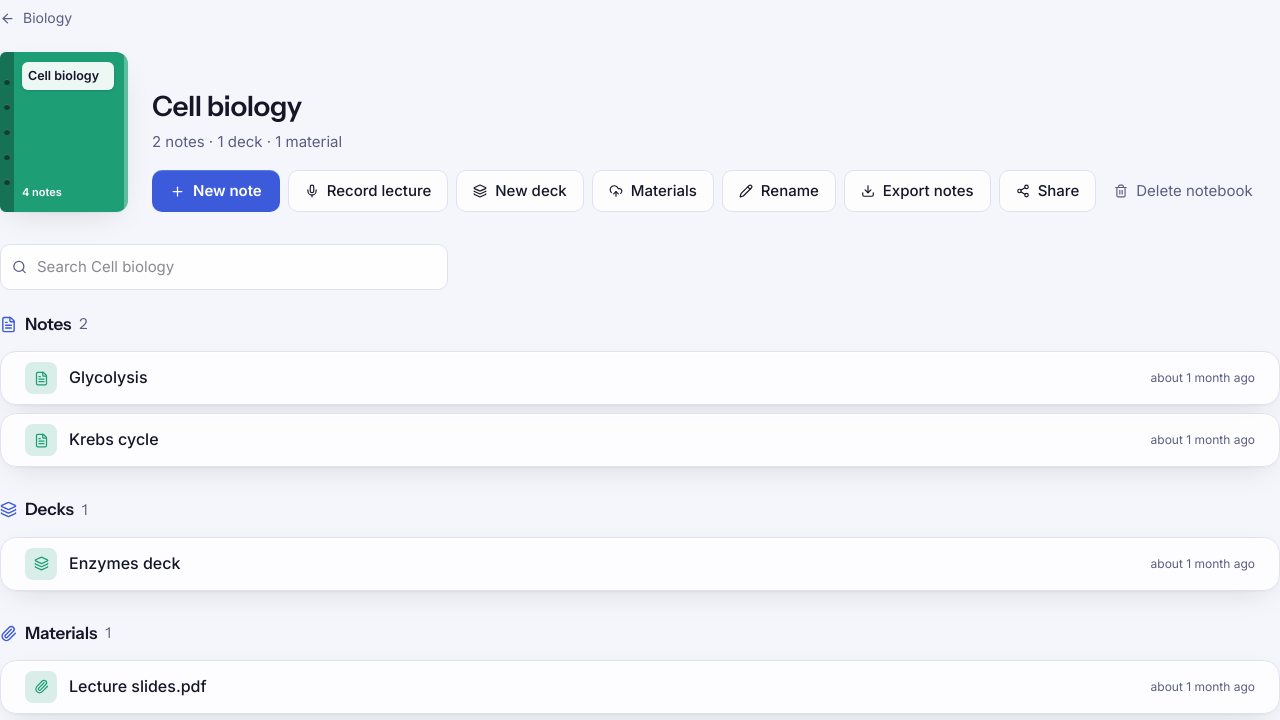
Scenario: a notebook's page › renames it and changes its course, which changes its colour
Click the button "Rename" at (779, 191), box [722,170,836,212]
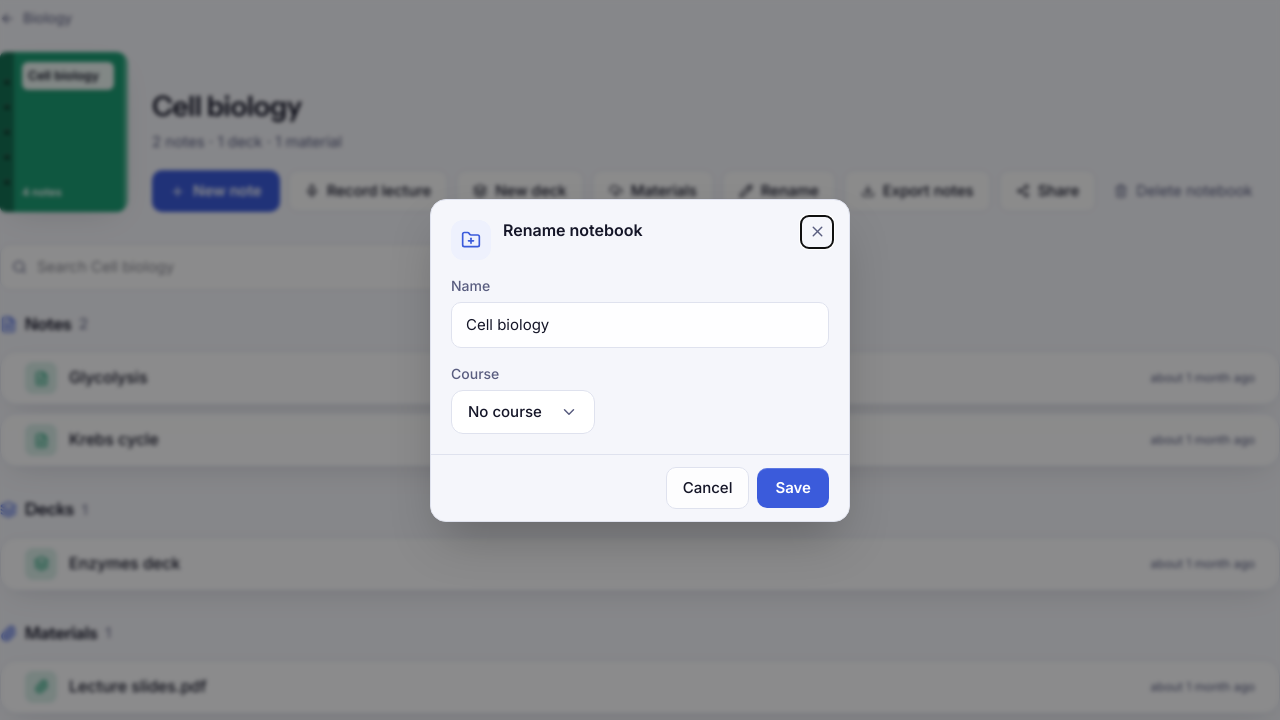
Replace the text in the field labelled "Name" with "Organic" at (640, 324), box [451,302,829,348]
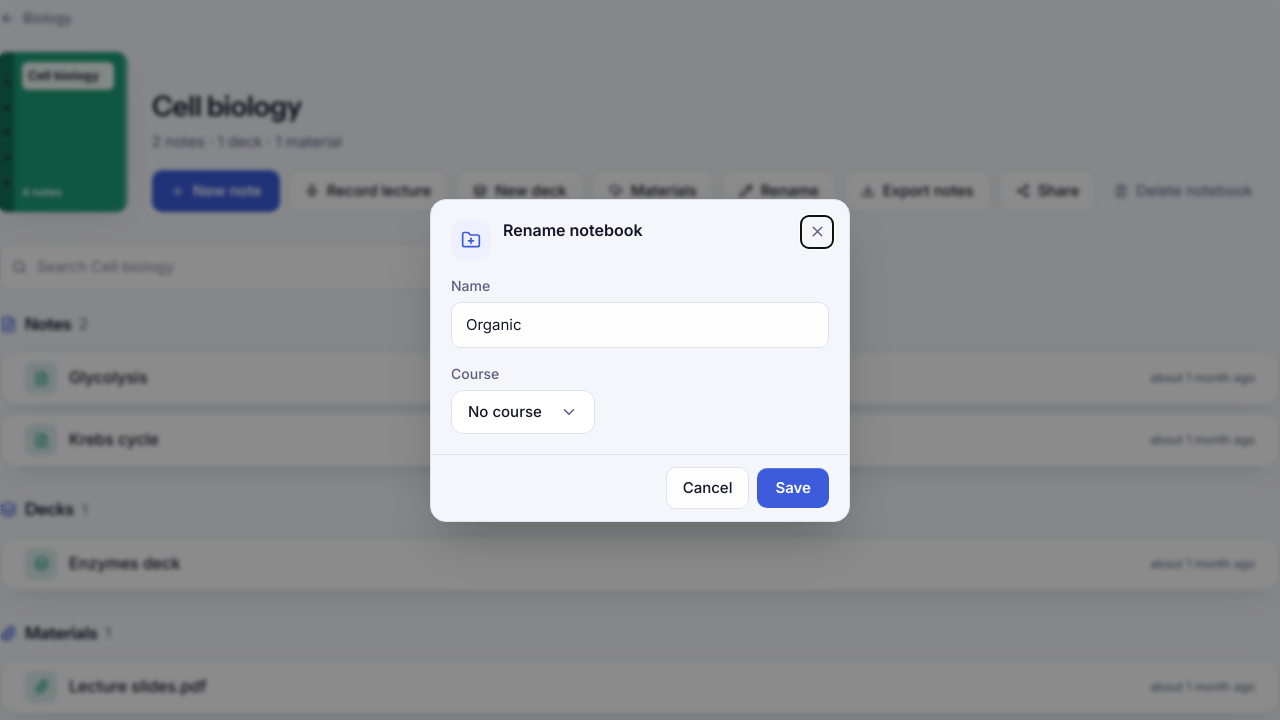
Click the button "No course" at (523, 412), box [451,390,595,434]
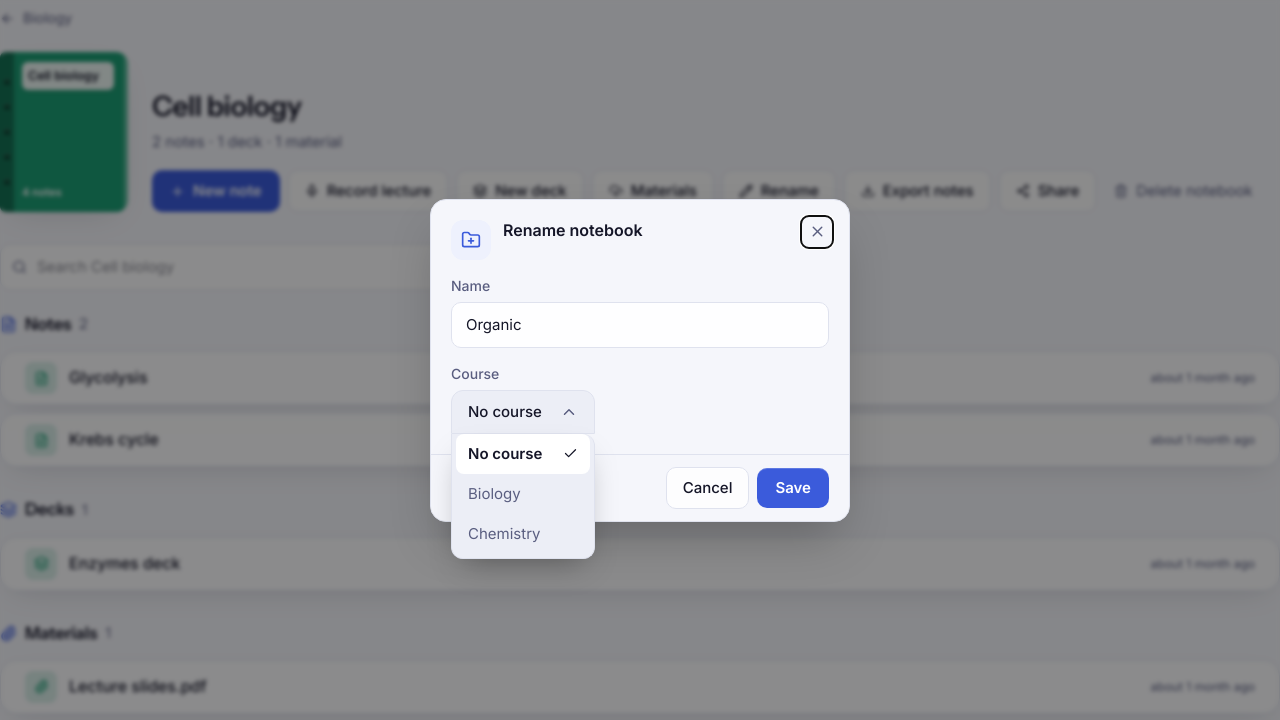
Click the option "Chemistry" at (504, 533), box [468,524,540,542]
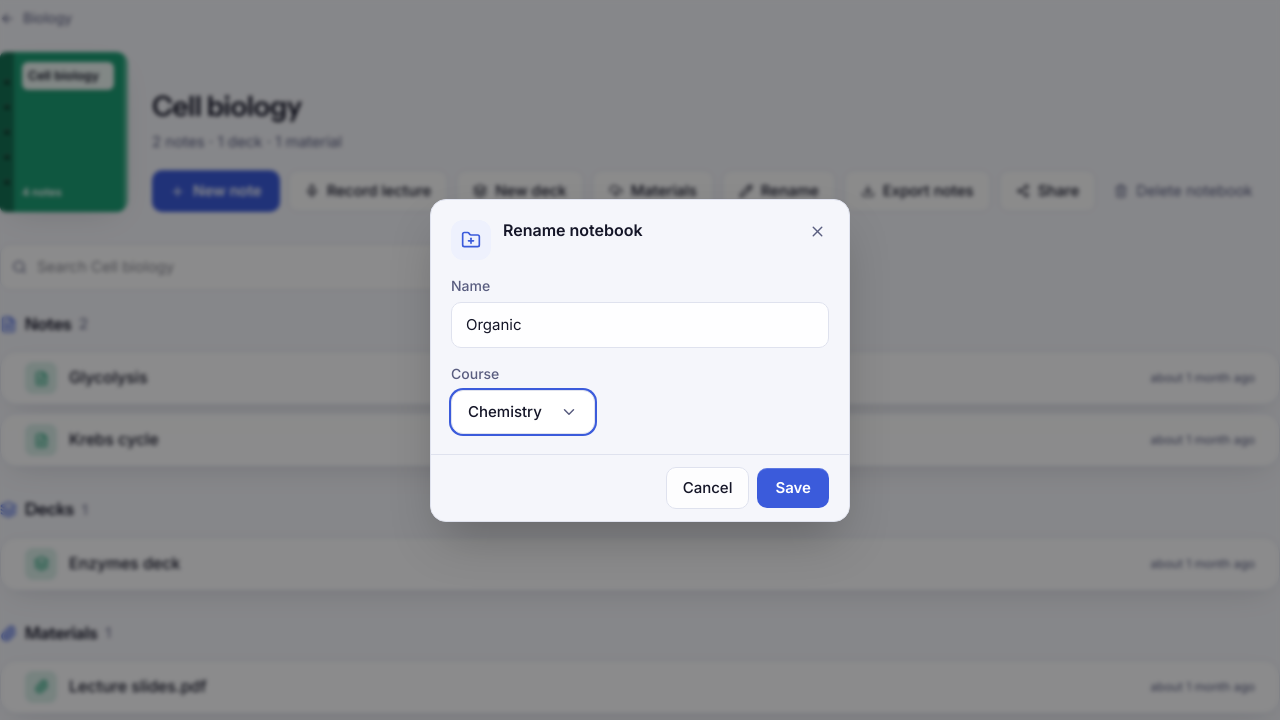
Click the button "Save" at (793, 488), box [758,468,829,508]
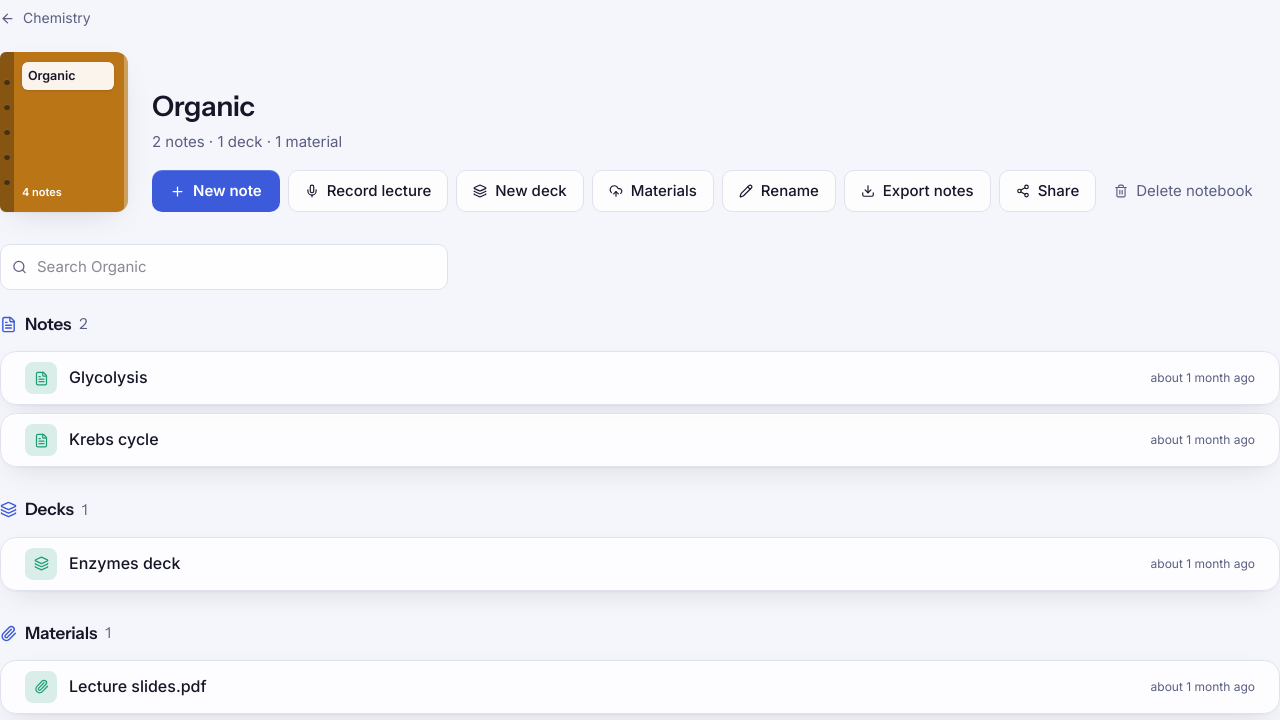
Result: the heading "Organic" is shown at [152,89,255,123]
